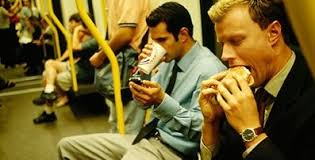drinking: (124, 4, 203, 123)
eating: (203, 0, 289, 127)
